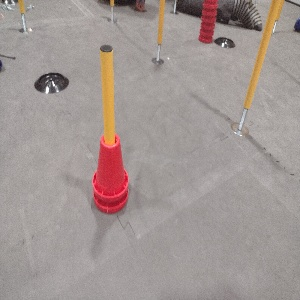Red_2: (90, 132, 129, 213)
